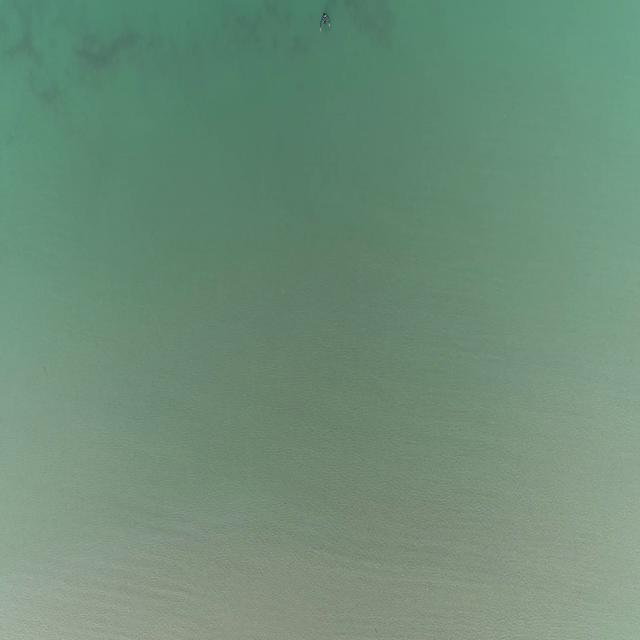person: (319, 12, 332, 32)
